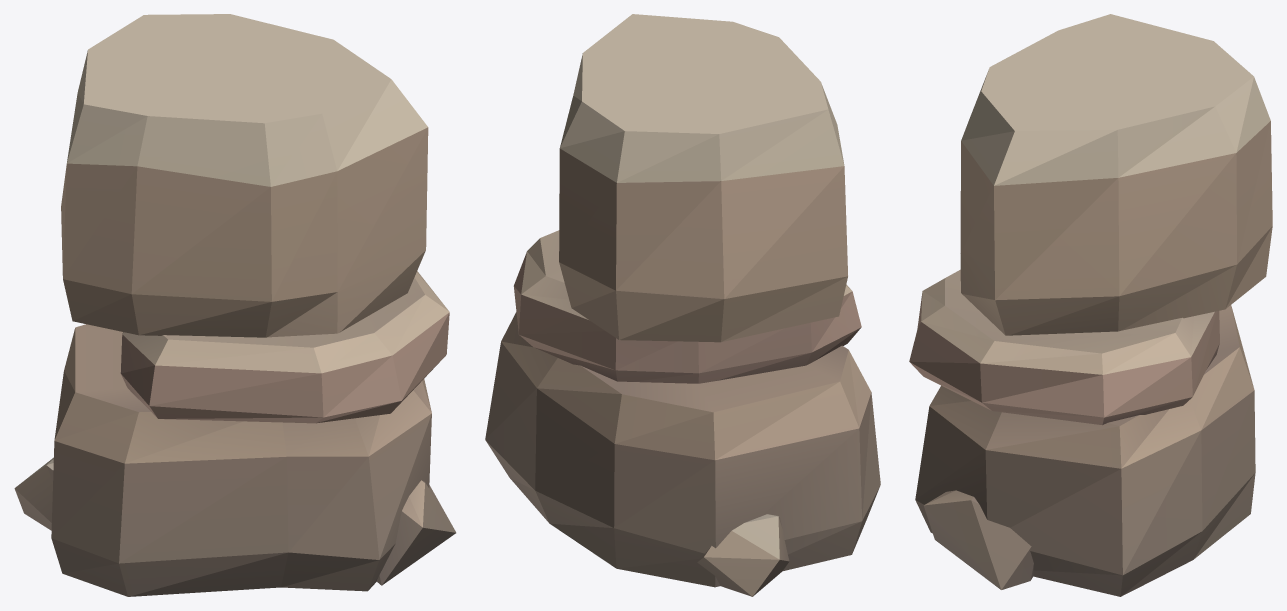
File: rock_1.glb
3 renders of one model, left to right at view 1: azimuth 30°, elevation 25°; view 2: azimuth 150°, elevation 25°; view 3: azimuth 270°, elevation 25°, orthographic. The views are drawn at different scales.
Bounding box in the file's own units: 1.93 × 2.2 × 1.68.
